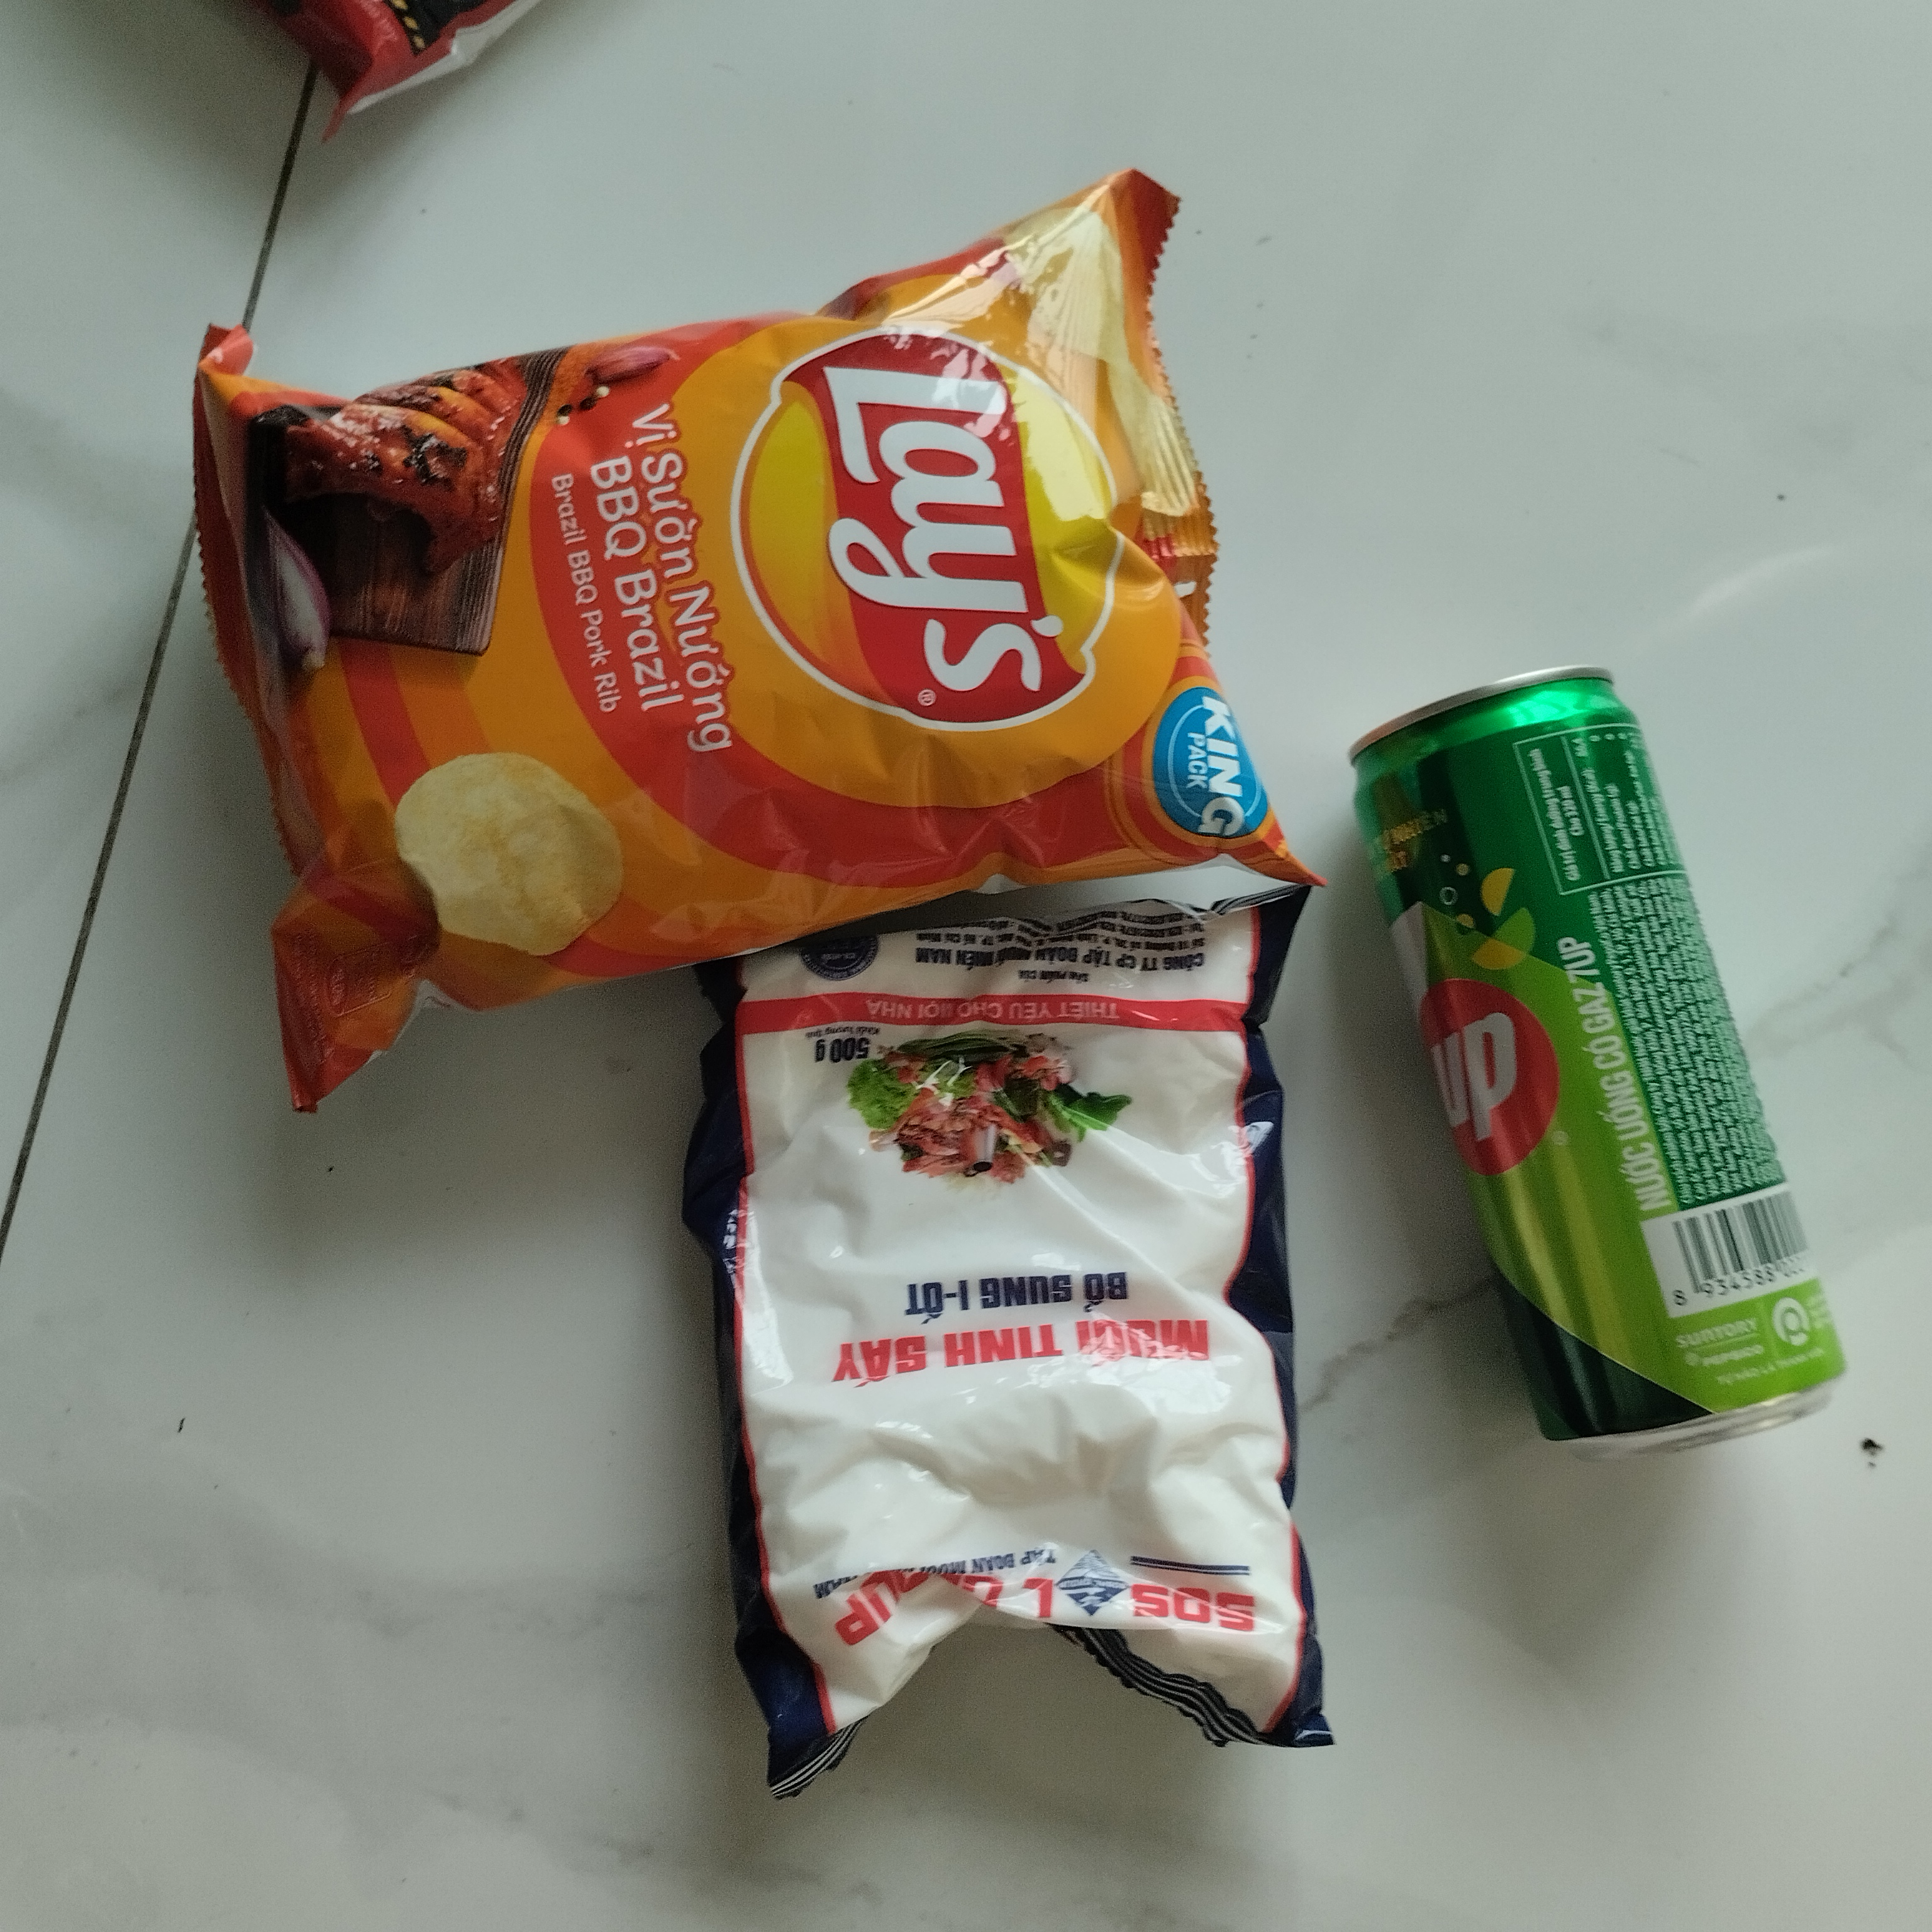7up: (1338, 660, 1858, 1458)
Lays: (188, 163, 1316, 1136)
Salt: (676, 862, 1348, 1805)
